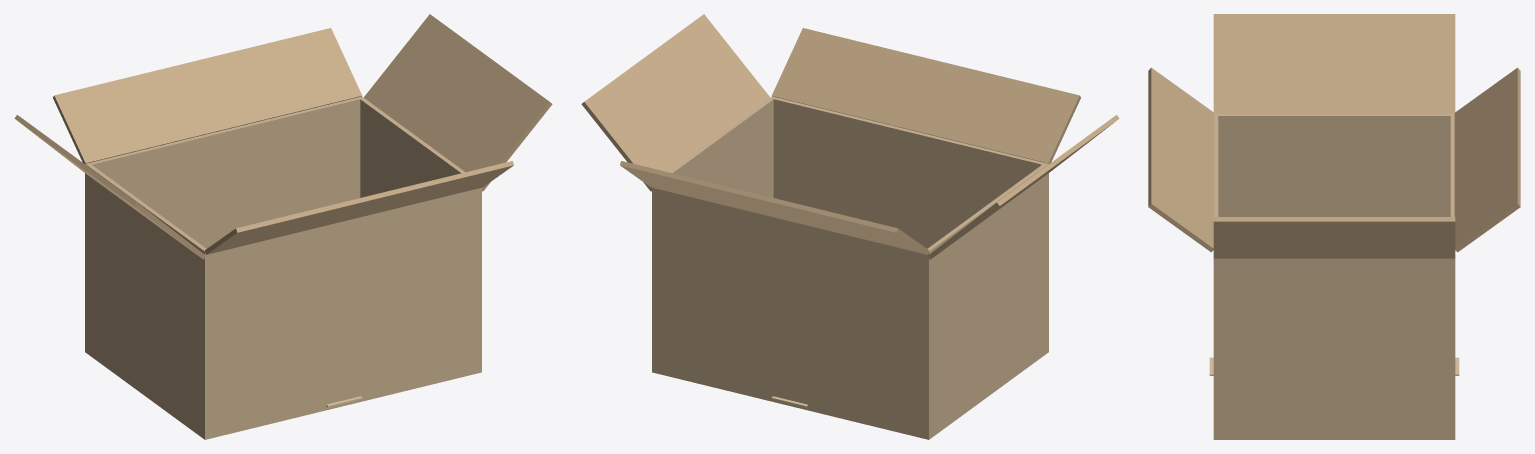
File: carton.glb
3 renders of one model, left to right at view 1: azimuth 30°, elevation 25°; view 2: azimuth 150°, elevation 25°; view 3: azimuth 270°, elevation 25°, orthographic.
Parts seen in each view (by area): view 1: Cube.005, Cube.001, Cube.007, Cube.008, Cube.004, Cube.003, Cube.006, Cube, Cube.002; view 2: Cube.007, Cube.005, Cube.001, Cube.006, Cube.004, Cube.003, Cube.008, Cube, Cube.002; view 3: Cube.003, Cube.002, Cube.001, Cube.004, Cube.006, Cube.008, Cube, Cube.007, Cube.005.
Boxes of the visible parts, x1,y1,x2,y2 form: Cube.005: (203, 189, 481, 438); Cube.001: (85, 163, 209, 439); Cube.007: (85, 97, 362, 351); Cube.008: (53, 28, 362, 163); Cube.004: (364, 14, 552, 191); Cube.003: (359, 96, 481, 368); Cube.006: (204, 161, 513, 254); Cube: (85, 348, 481, 439); Cube.002: (14, 115, 205, 259); Cube.007: (652, 188, 931, 439); Cube.005: (771, 96, 1048, 248); Cube.001: (924, 163, 1048, 437); Cube.006: (771, 28, 1080, 163); Cube.004: (581, 14, 769, 191); Cube.003: (652, 96, 774, 370); Cube.008: (620, 161, 929, 254); Cube: (652, 349, 1048, 439); Cube.002: (927, 115, 1119, 259); Cube.003: (1213, 258, 1455, 439); Cube.002: (1213, 14, 1455, 113); Cube.001: (1214, 114, 1454, 216); Cube.004: (1213, 217, 1455, 258); Cube.006: (1148, 67, 1214, 252); Cube.008: (1454, 67, 1520, 252); Cube: (1213, 435, 1454, 439); Cube.007: (1450, 114, 1455, 439); Cube.005: (1213, 116, 1218, 439).
Bounding box in the file's own units: 0.6046 × 0.3509 × 0.4621.
